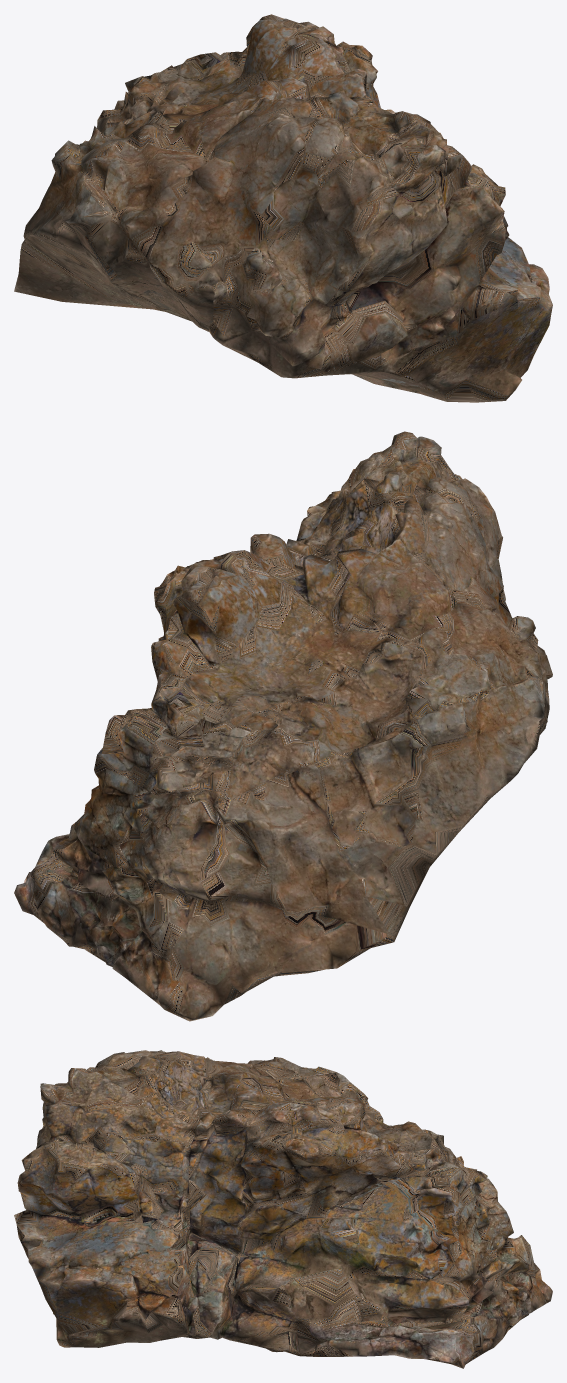
Rendered from woodland-rock-0-mid.glb.
The picture shows the model from 3 angles, top to bottom: view 1: azimuth 30°, elevation 25°; view 2: azimuth 150°, elevation 25°; view 3: azimuth 270°, elevation 25°; orthographic projection. The views are drawn at different scales.
Visible parts, largest first — view 1: boulder_01; view 2: boulder_01; view 3: boulder_01.
Boxes of the visible parts, <box> form: boulder_01: <box>14,14,552,402</box>; boulder_01: <box>14,431,552,1021</box>; boulder_01: <box>14,1050,552,1368</box>.
Size of the model in its own units: 0.6941 by 0.5481 by 0.9991.
1 material, 1 textured.
